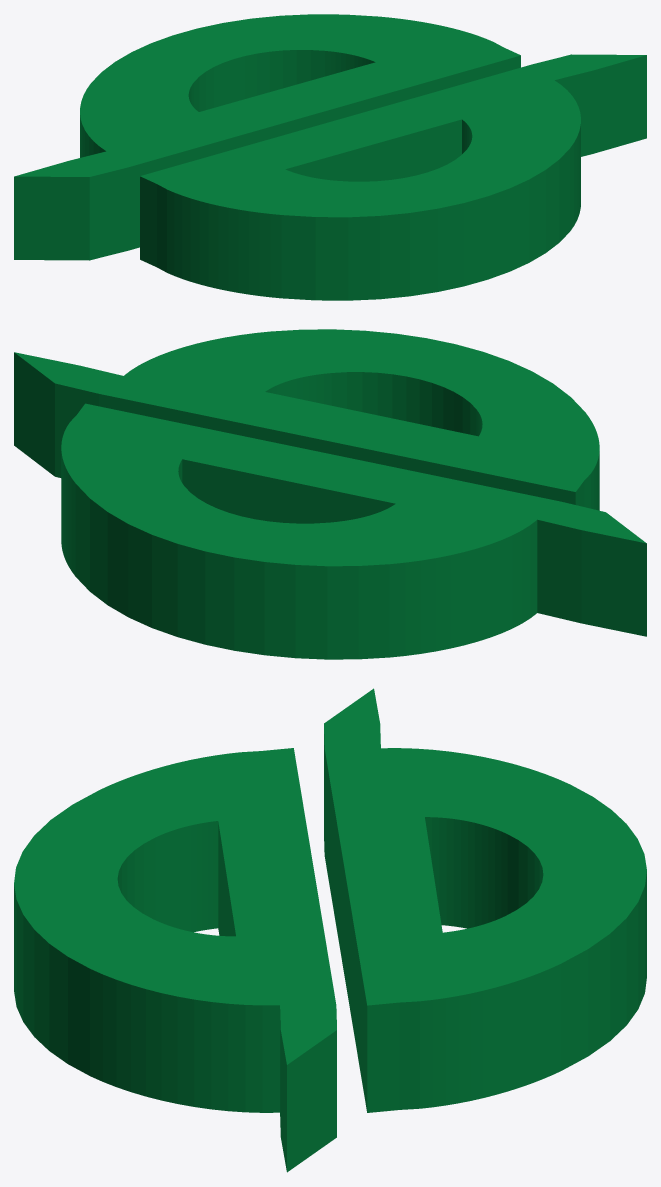
File: olenbetong2.gltf
3 views of the same model, one above another, from view 1: azimuth 30°, elevation 25°; view 2: azimuth 150°, elevation 25°; view 3: azimuth 270°, elevation 25° (orthographic). The views are drawn at different scales.
Visible parts, largest first — view 1: Text.001; view 2: Text.001; view 3: Text.001.
Part boxes in pixels (x1=…): Text.001: x1=14, y1=14, x2=646, y2=300; Text.001: x1=14, y1=329, x2=646, y2=659; Text.001: x1=14, y1=688, x2=646, y2=1172.
Bounding box in the file's own units: 9.04 × 1.2 × 6.42.
